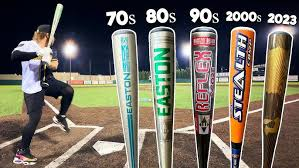baseball bat: (148, 25, 177, 168), (263, 30, 293, 168), (189, 26, 218, 168), (228, 26, 257, 168), (110, 28, 138, 168), (42, 2, 64, 64)
